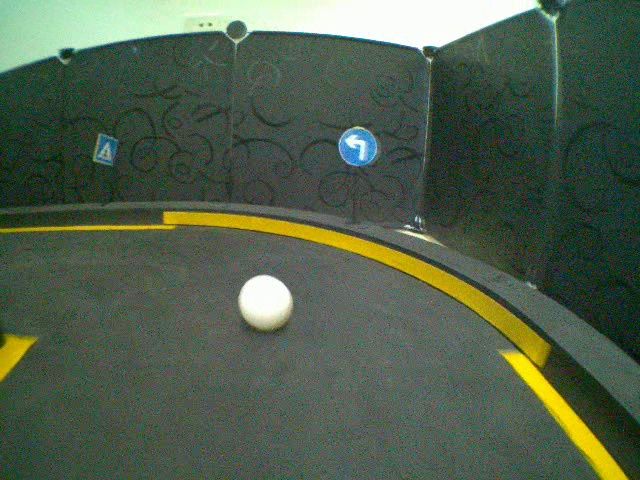ball: (235, 273, 292, 333)
